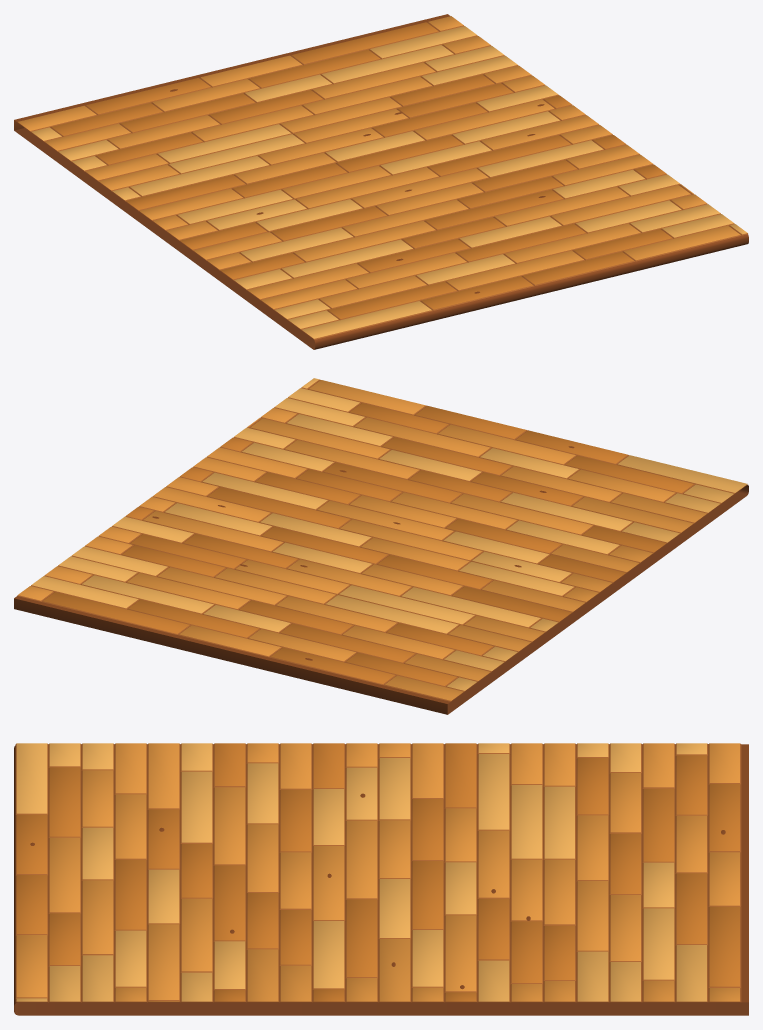
Rendered from home_floor.glb.
3 views of the same model, one above another, from view 1: azimuth 30°, elevation 25°; view 2: azimuth 150°, elevation 25°; view 3: azimuth 270°, elevation 25° (orthographic). The views are drawn at different scales.
Visible parts, largest first — view 1: home_floor; view 2: home_floor; view 3: home_floor.
Part boxes in pixels (bbox=[...]): home_floor: bbox=[14, 14, 748, 349]; home_floor: bbox=[14, 378, 748, 714]; home_floor: bbox=[14, 743, 748, 1015].
Size of the model in its own units: 8 by 0.2043 by 9.62.
